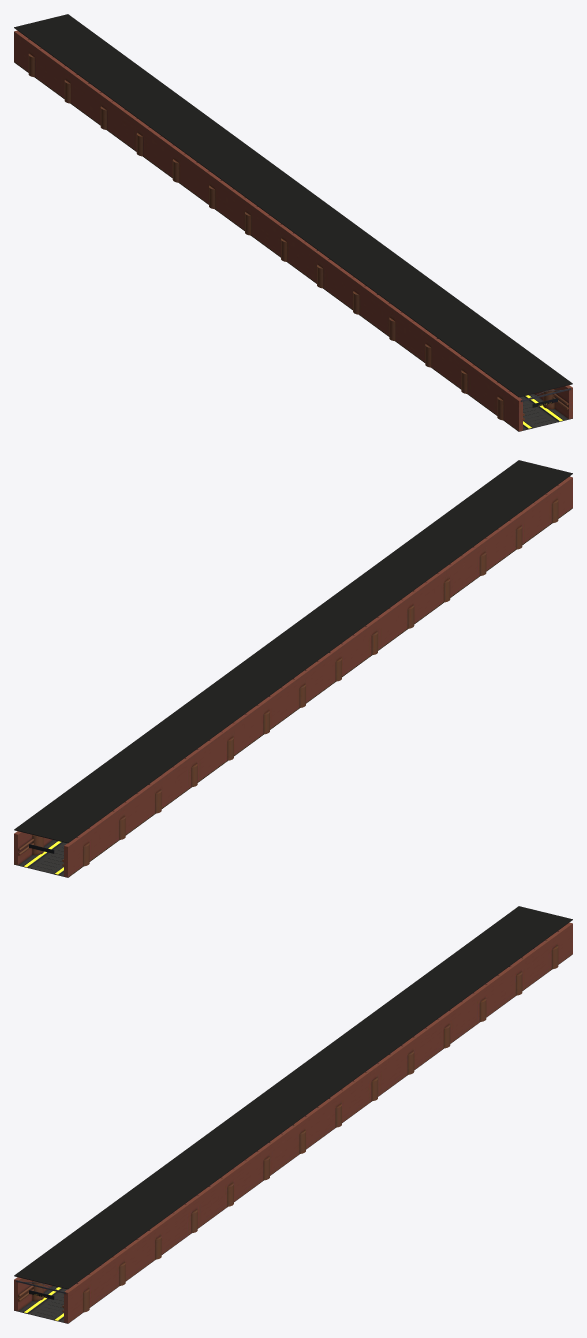
Rendered from fundicion.glb.
3 views of the same model, one above another, from view 1: azimuth 30°, elevation 25°; view 2: azimuth 150°, elevation 25°; view 3: azimuth 330°, elevation 25° (orthographic).
Visible parts, largest first — view 1: fundicion; view 2: fundicion; view 3: fundicion.
Part boxes in pixels (left/top/right/bottom): fundicion: left=14, top=14, right=572, bottom=431; fundicion: left=14, top=460, right=572, bottom=877; fundicion: left=14, top=906, right=572, bottom=1323.
Size of the model in its own units: 28.4 by 16.1 by 420.
Materials: 1 (1 with a texture image).
